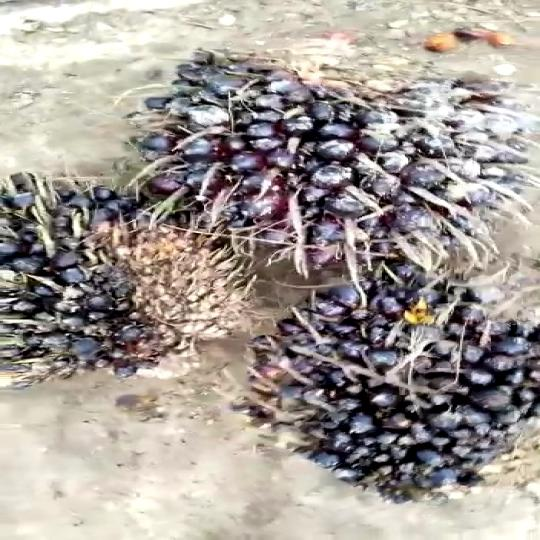mentah: (124, 39, 540, 284), (234, 259, 540, 504), (0, 168, 252, 388)
